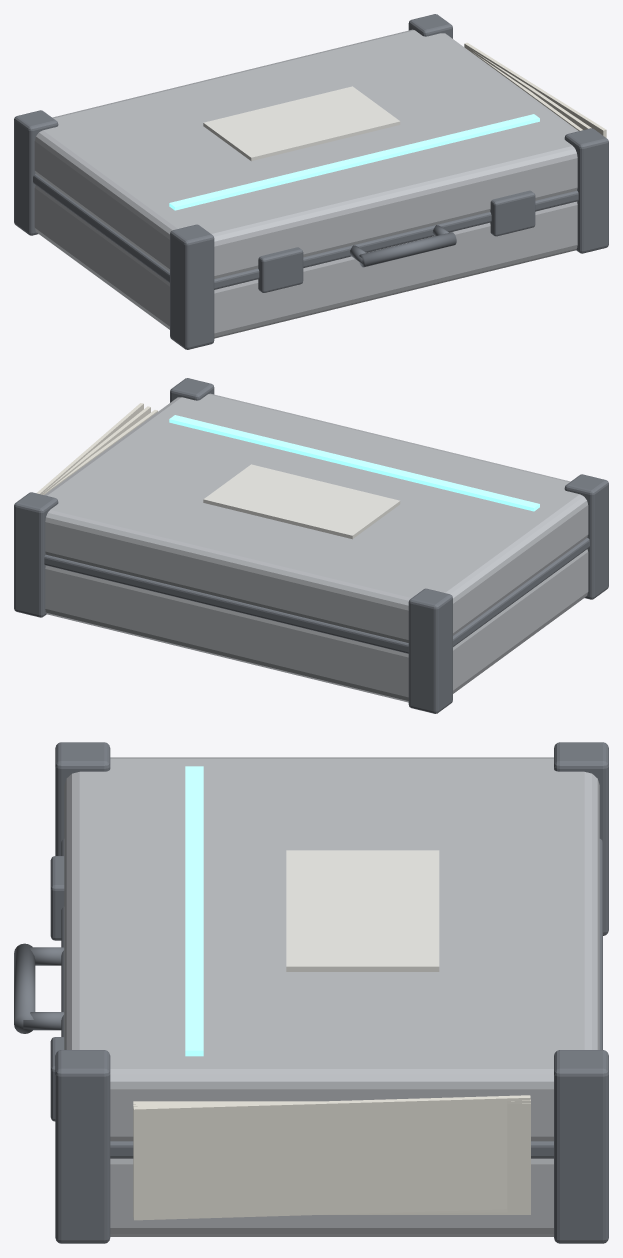
The model's file is ArchiveCase.fbx.
3 views of the same model, one above another, from view 1: azimuth 30°, elevation 25°; view 2: azimuth 150°, elevation 25°; view 3: azimuth 270°, elevation 25° (orthographic). The views are drawn at different scales.
Visible parts, largest first — view 1: Case_Lid, Case_Base, Label_Plate, Corner_1, Case_Trim, Corner_2, Lid_Stripe, Corner_4, Latch_2, Latch_1, Handle_Bar, Paper_3 (+3 smaller); view 2: Case_Lid, Case_Base, Label_Plate, Case_Trim, Corner_4, Corner_3, Lid_Stripe, Corner_1, Corner_2, Paper_3, Paper_2, Paper_1; view 3: Case_Lid, Paper_3, Label_Plate, Case_Base, Corner_2, Corner_3, Lid_Stripe, Paper_1, Corner_4, Corner_1, Case_Trim, Handle_Bar (+3 smaller).
Boxes of the visible parts, left/top/right/bottom form: Case_Lid: left=34, top=29, right=578, bottom=278; Case_Base: left=34, top=185, right=577, bottom=338; Label_Plate: left=203, top=86, right=400, bottom=161; Corner_1: left=170, top=224, right=214, bottom=349; Case_Trim: left=33, top=174, right=578, bottom=289; Corner_2: left=564, top=128, right=608, bottom=253; Lid_Stripe: left=169, top=114, right=539, bottom=210; Corner_4: left=14, top=110, right=58, bottom=235; Latch_2: left=490, top=190, right=535, bottom=236; Latch_1: left=258, top=247, right=303, bottom=292; Handle_Bar: left=359, top=232, right=456, bottom=267; Paper_3: left=464, top=42, right=606, bottom=137; Case_Lid: left=44, top=393, right=588, bottom=642; Case_Base: left=45, top=549, right=588, bottom=702; Label_Plate: left=203, top=464, right=400, bottom=539; Case_Trim: left=44, top=538, right=589, bottom=653; Corner_4: left=408, top=588, right=452, bottom=713; Corner_3: left=14, top=492, right=58, bottom=617; Lid_Stripe: left=169, top=415, right=539, bottom=511; Corner_1: left=564, top=474, right=608, bottom=599; Corner_2: left=170, top=378, right=214, bottom=402; Paper_3: left=36, top=403, right=143, bottom=494; Paper_2: left=41, top=406, right=150, bottom=494; Paper_1: left=43, top=410, right=157, bottom=494; Case_Lid: left=64, top=757, right=599, bottom=1141; Paper_3: left=133, top=1095, right=530, bottom=1220; Label_Plate: left=286, top=850, right=439, bottom=971; Case_Base: left=110, top=1158, right=553, bottom=1236; Corner_2: left=55, top=1050, right=110, bottom=1243; Corner_3: left=554, top=1050, right=608, bottom=1243; Lid_Stripe: left=185, top=766, right=203, bottom=1056; Paper_1: left=133, top=1101, right=530, bottom=1214; Corner_4: left=554, top=742, right=608, bottom=935; Corner_1: left=55, top=742, right=110, bottom=855; Case_Trim: left=61, top=839, right=602, bottom=1158; Handle_Bar: left=14, top=943, right=35, bottom=1033.
Bounding box in the file's own units: 53.71 × 12.6 × 38.9.
